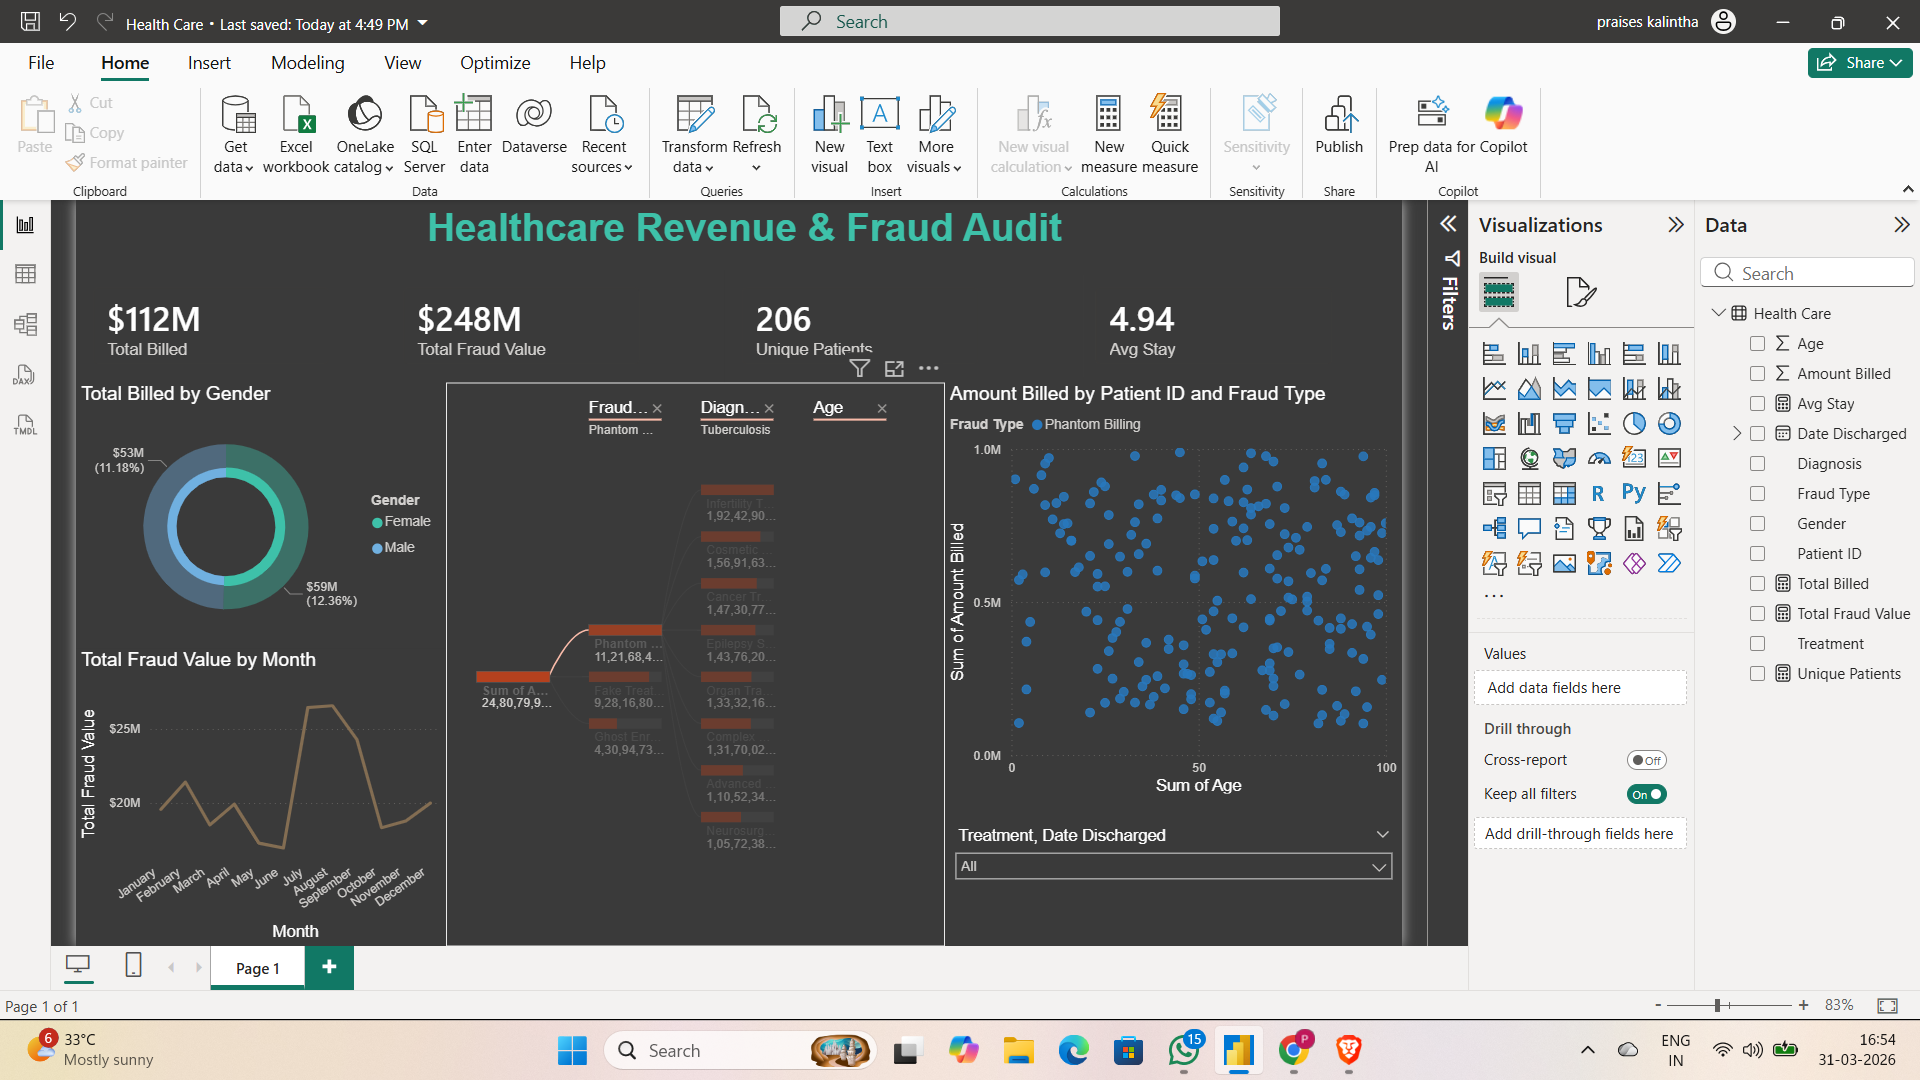

The dashboard page shown, as its layout file describes it:
{"tool":"powerbi","page":{"name":"Page 1","canvas":[1280,720],"ordinal":0},"visuals":[{"type":"textbox","box":[9.6,0,1270.7,76.8],"z":0},{"type":"cardVisual","fields":{"Data":["Health Care.Total Billed"]},"box":[0,67.6,261.8,108.6],"z":1000},{"type":"cardVisual","fields":{"Data":["Health Care.Total Fraud Value"]},"box":[299.1,67.2,262.1,108.4],"z":2000},{"type":"cardVisual","fields":{"Data":["Health Care.Unique Patients"]},"box":[625.7,67.2,262.1,108.4],"z":3000},{"type":"cardVisual","fields":{"Data":["Health Care.Avg Stay (Days)"]},"box":[967.4,67.2,262.1,108.4],"z":4000},{"type":"donutChart","fields":{"Category":["Health Care.Gender"],"Y":["Health Care.Total Billed"]},"box":[0,175.6,356.8,258],"z":5000},{"type":"lineChart","fields":{"Category":["Health Care.Date Discharged.Variation.Date Hierarchy.Month"],"Y":["Health Care.Total Fraud Value"]},"box":[0,433.6,356.8,286.8],"z":6000},{"type":"scatterChart","title":"Amount Billed by Patient ID and Fraud Type","fields":{"X":["Sum(Health Care.Age)"],"Series":["Health Care.Fraud Type"],"Y":["Sum(Health Care.Amount Billed)"],"Category":["Health Care.Patient ID"]},"box":[838.4,175.6,441.9,402.1],"z":8000},{"type":"slicer","fields":{"Values":["Health Care.Treatment","Health Care.Date Discharged"]},"box":[838.4,599.7,441.9,120.8],"z":9000},{"type":"decompositionTreeVisual","fields":{"ExplainBy":["Health Care.Fraud Type","Health Care.Diagnosis","Health Care.Age","Health Care.Gender"],"Analyze":["Sum(Health Care.Amount Billed)"]},"box":[356.8,175.6,481.6,544.8],"z":9001}]}

Visuals, with their boxes on the page's 1280x720 design canvas (x1, y1, x2, y2). These are canvas units, not pixel positions in the 1920x1080 screenshot, which may show the page scaled, cropped or inside an application window:
textbox: rect(10, 0, 1280, 77)
cardVisual - Health Care.Total Billed: rect(0, 68, 262, 176)
cardVisual - Health Care.Total Fraud Value: rect(299, 67, 561, 176)
cardVisual - Health Care.Unique Patients: rect(626, 67, 888, 176)
cardVisual - Health Care.Avg Stay (Days): rect(967, 67, 1230, 176)
donutChart - Health Care.Gender x Health Care.Total Billed: rect(0, 176, 357, 434)
lineChart - Health Care.Date Discharged.Variation.Date Hierarchy.Month x Health Care.Total Fraud Value: rect(0, 434, 357, 720)
"Amount Billed by Patient ID and Fraud Type" scatterChart: rect(838, 176, 1280, 578)
slicer - Health Care.Treatment x Health Care.Date Discharged: rect(838, 600, 1280, 720)
decompositionTreeVisual - Health Care.Fraud Type x Health Care.Diagnosis: rect(357, 176, 838, 720)
